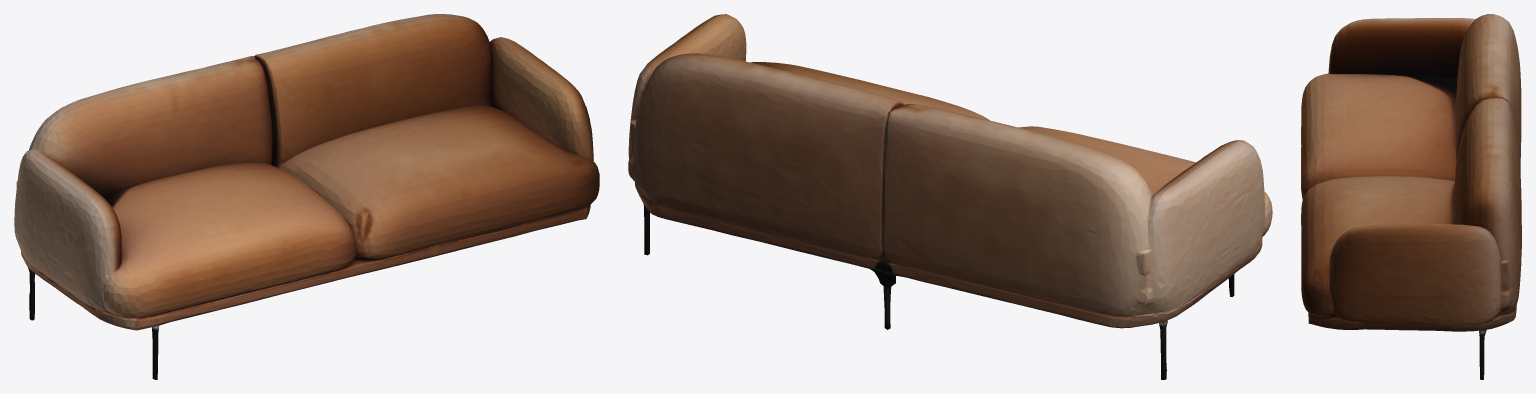
3 renders of one model, left to right at view 1: azimuth 30°, elevation 25°; view 2: azimuth 150°, elevation 25°; view 3: azimuth 270°, elevation 25°, orthographic. The views are drawn at different scales.
Visible parts, largest first — view 1: world; view 2: world; view 3: world.
Boxes of the visible parts, <box> form: world: <box>14,14,599,379</box>; world: <box>628,14,1272,379</box>; world: <box>1301,14,1521,379</box>.
Bounding box in the file's own units: 0.9997 × 0.3792 × 0.4196.
Materials: 1 (1 with a texture image).
